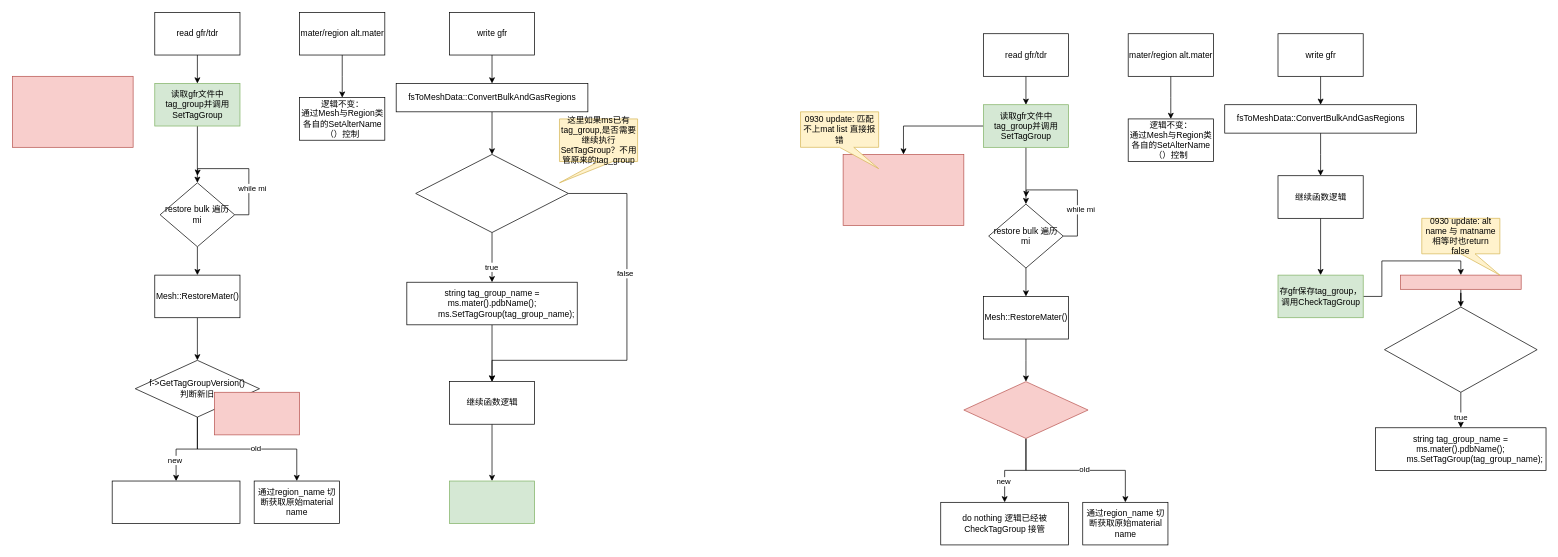
Image size: 1558x557. Some labels were removed from this diagram. The shapes that lost their labels are listed below. From the top down, each one's box as (x1, y1, x2, y2) in pixels, then its label:
(12, 76, 133, 147): 读取时直接执行这些逻辑，不需要存 tag_group:
(415, 154, 568, 233): fs_->isStructCmd() && ms.GetMatAlterName() not empty
(842, 154, 964, 225): SetTagGroup()内部逻辑：
(1400, 274, 1521, 289): CheckTagGroup ()内部逻辑：
(1384, 306, 1537, 392): f->isStructCmd() && GetMatAlterName() not empty
(214, 392, 300, 435): IsSupportTagGroup()
(963, 381, 1088, 438): f-> IsSupportTagGroup () 判断新旧
(111, 480, 240, 524): CheckTagGroup(tag_group) m = mat_region; material_name_ = tag_group;
(449, 480, 535, 524): 存gfr保存tag_group
